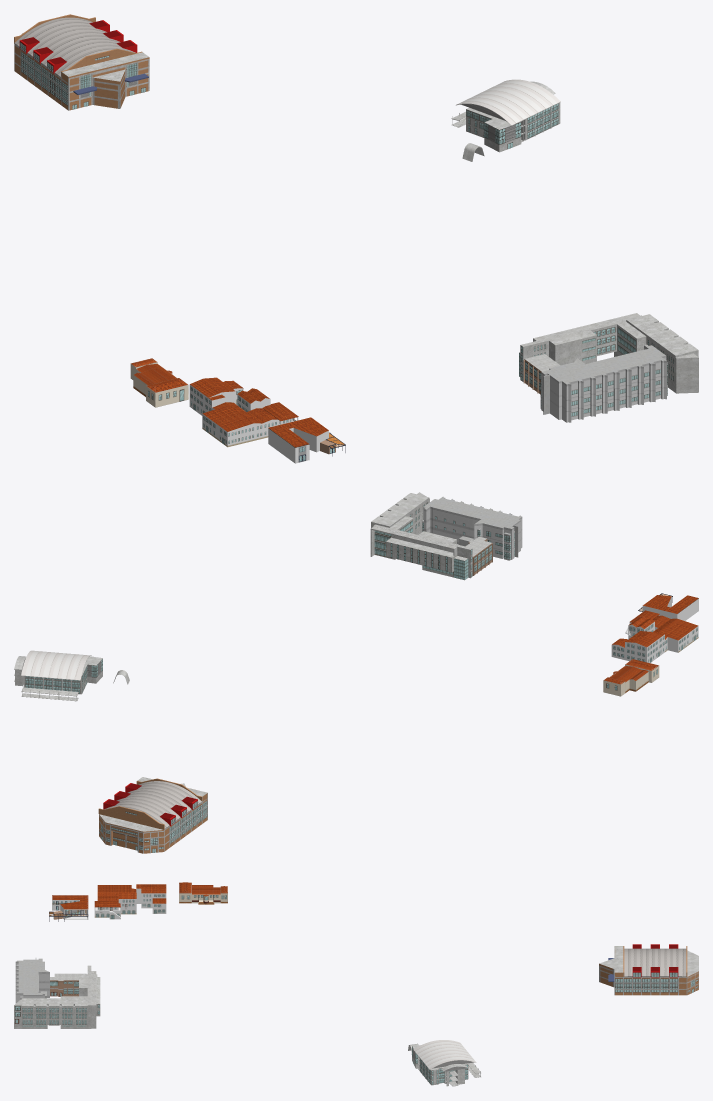
Rendered from bloques_nuevos.fbx.
3 views of the same model, one above another, from view 1: azimuth 30°, elevation 25°; view 2: azimuth 150°, elevation 25°; view 3: azimuth 270°, elevation 25° (orthographic). The views are drawn at different scales.
Visible parts, largest first — view 1: polideportivo, bloque_19a, pCube15, bloque_25, bloque_51, bloque_50a, bloque_51b, bloque_19; view 2: polideportivo, pCube15, bloque_19a, bloque_25, bloque_51, bloque_51b, bloque_50a, bloque_19; view 3: polideportivo, pCube15, bloque_25, bloque_51, bloque_19a, bloque_51b, bloque_50a, bloque_19.
Boxes of the visible parts, x1,y1,x2,y2 form: polideportivo: (14,14,149,110); bloque_19a: (540,344,667,422); pCube15: (519,313,698,393); bloque_25: (451,79,560,161); bloque_51: (189,377,298,447); bloque_50a: (268,417,345,463); bloque_51b: (130,358,188,407); bloque_19: (523,354,560,394); polideportivo: (98,777,207,853); pCube15: (370,492,472,580); bloque_19a: (422,496,522,560); bloque_25: (14,650,129,701); bloque_51: (611,610,698,662); bloque_51b: (603,659,659,696); bloque_50a: (638,593,698,620); bloque_19: (466,536,492,575); polideportivo: (599,944,698,995); pCube15: (14,965,100,1028); bloque_25: (408,1040,480,1086); bloque_51: (94,884,166,919); bloque_19a: (15,958,49,1003); bloque_51b: (179,882,227,904); bloque_50a: (49,895,88,921); bloque_19: (50,973,86,996).
Size of the model in its own units: 110491 by 7975 by 163380.
